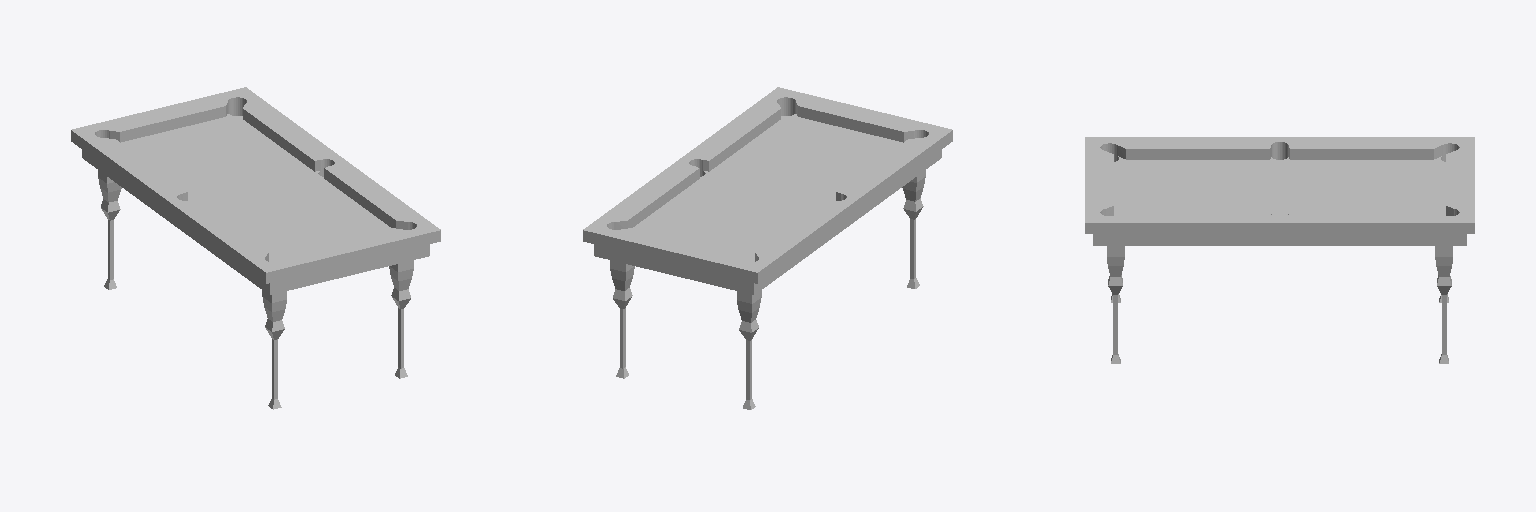
The model's file is PoolTable.obj.
3 views of the same model, side by side, from view 1: azimuth 30°, elevation 25°; view 2: azimuth 150°, elevation 25°; view 3: azimuth 270°, elevation 25° (orthographic).
Parts seen in each view (by area): view 1: Pool_Table_Cube; view 2: Pool_Table_Cube; view 3: Pool_Table_Cube.
Boxes of the visible parts, x1,y1,x2,y2 form: Pool_Table_Cube: [71, 87, 440, 409]; Pool_Table_Cube: [583, 87, 952, 409]; Pool_Table_Cube: [1085, 137, 1474, 363].
Size of the model in its own units: 21.79 by 18.07 by 42.09.